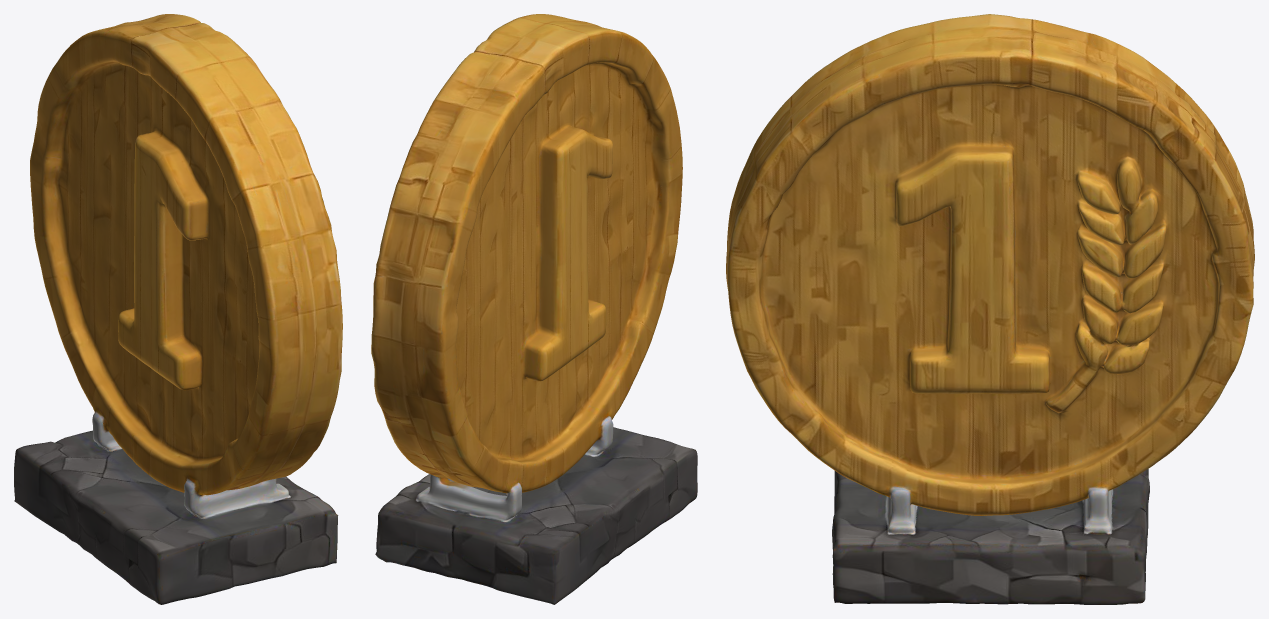
Rendered from tomsk_ruble.glb.
The picture shows the model from 3 angles, left to right: view 1: azimuth 30°, elevation 25°; view 2: azimuth 150°, elevation 25°; view 3: azimuth 270°, elevation 25°; orthographic projection. The views are drawn at different scales.
Parts seen in each view (by area): view 1: tripo_node_31f8f288-fa0f-4d71-8fcd-eeec20132b93; view 2: tripo_node_31f8f288-fa0f-4d71-8fcd-eeec20132b93; view 3: tripo_node_31f8f288-fa0f-4d71-8fcd-eeec20132b93.
Part boxes in pixels (left/top/right/bottom): tripo_node_31f8f288-fa0f-4d71-8fcd-eeec20132b93: left=14, top=14, right=342, bottom=604; tripo_node_31f8f288-fa0f-4d71-8fcd-eeec20132b93: left=371, top=14, right=697, bottom=604; tripo_node_31f8f288-fa0f-4d71-8fcd-eeec20132b93: left=726, top=14, right=1254, bottom=604.
Bounding box in the file's own units: 0.3824 × 0.9796 × 0.8831.
1 material, 1 textured.
